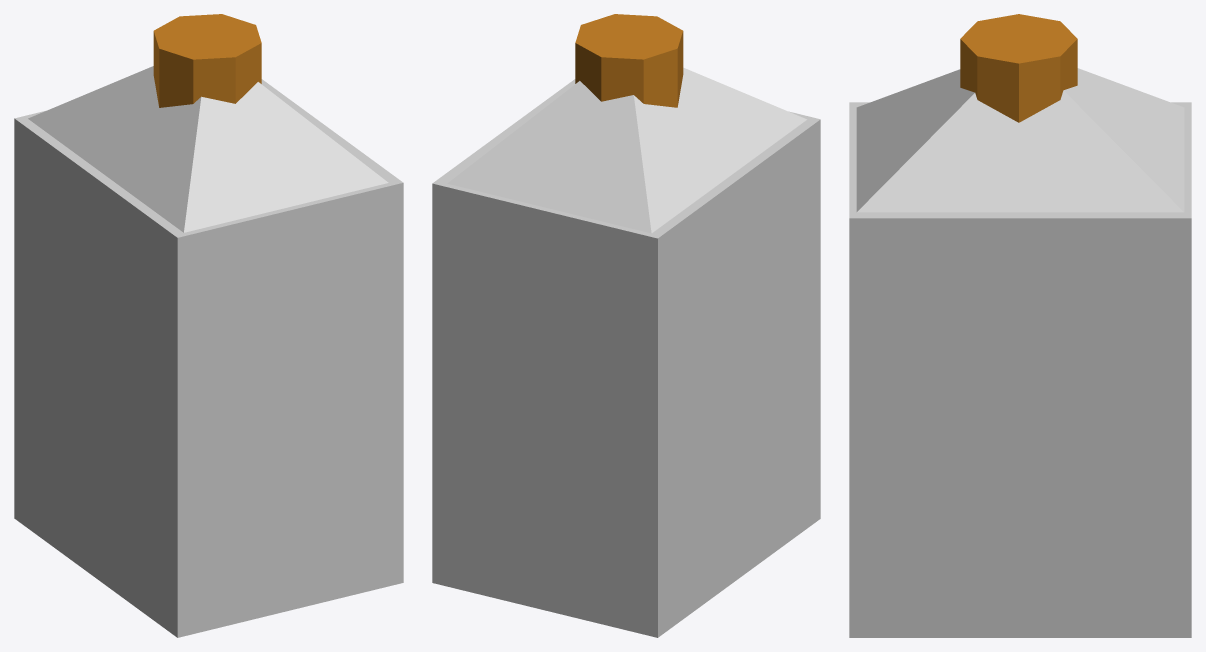
The model's file is healingbottle.fbx.
The picture shows the model from 3 angles, left to right: view 1: azimuth 30°, elevation 25°; view 2: azimuth 150°, elevation 25°; view 3: azimuth 270°, elevation 25°; orthographic projection. The views are drawn at different scales.
Visible parts, largest first — view 1: Cube, Cylinder; view 2: Cube, Cylinder; view 3: Cube, Cylinder.
Boxes of the visible parts, <box> form: Cube: <box>14,66,403,637</box>; Cylinder: <box>153,14,261,107</box>; Cube: <box>432,67,820,637</box>; Cylinder: <box>575,14,683,107</box>; Cube: <box>849,68,1191,637</box>; Cylinder: <box>960,14,1077,122</box>.
Bounding box in the file's own units: 579 × 1261 × 725.
